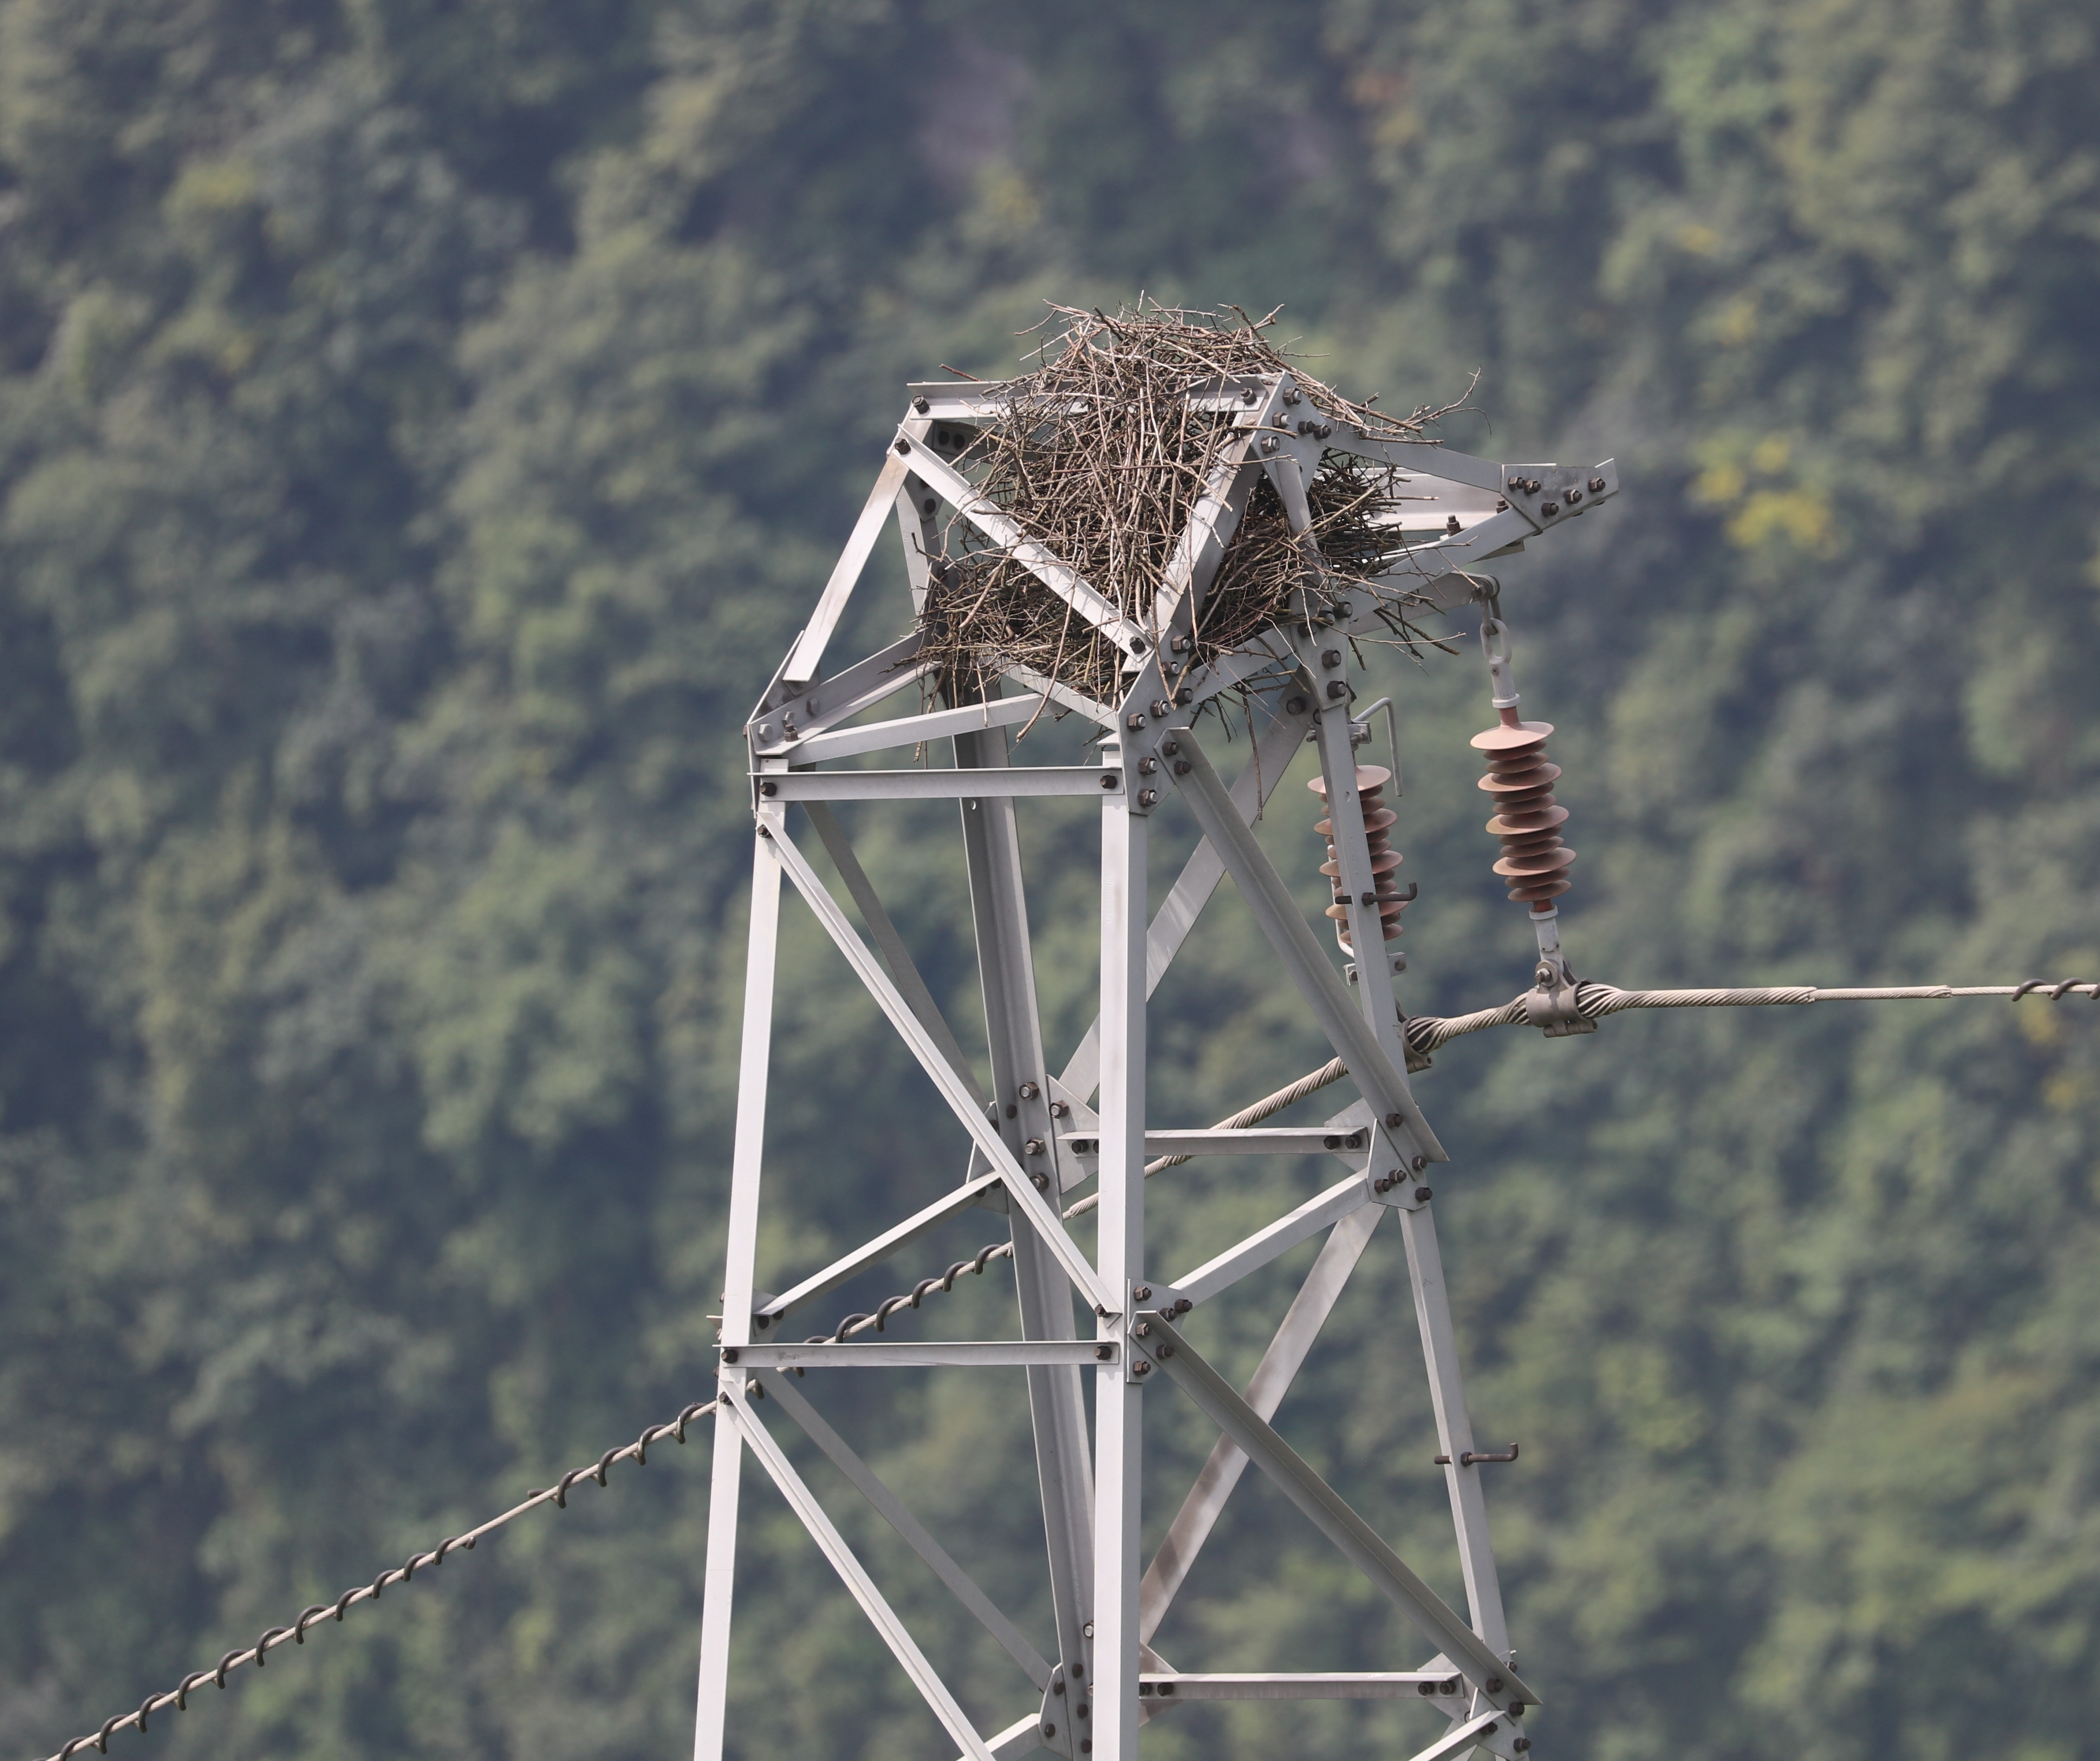niaowo: (893, 252, 1422, 720)
